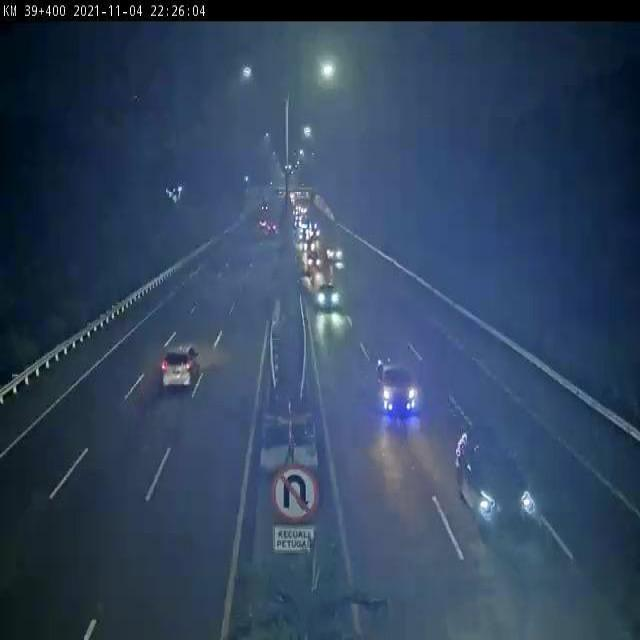car: (445, 424, 540, 552), (372, 353, 420, 432), (161, 344, 204, 387), (320, 279, 338, 309), (307, 251, 324, 272)
